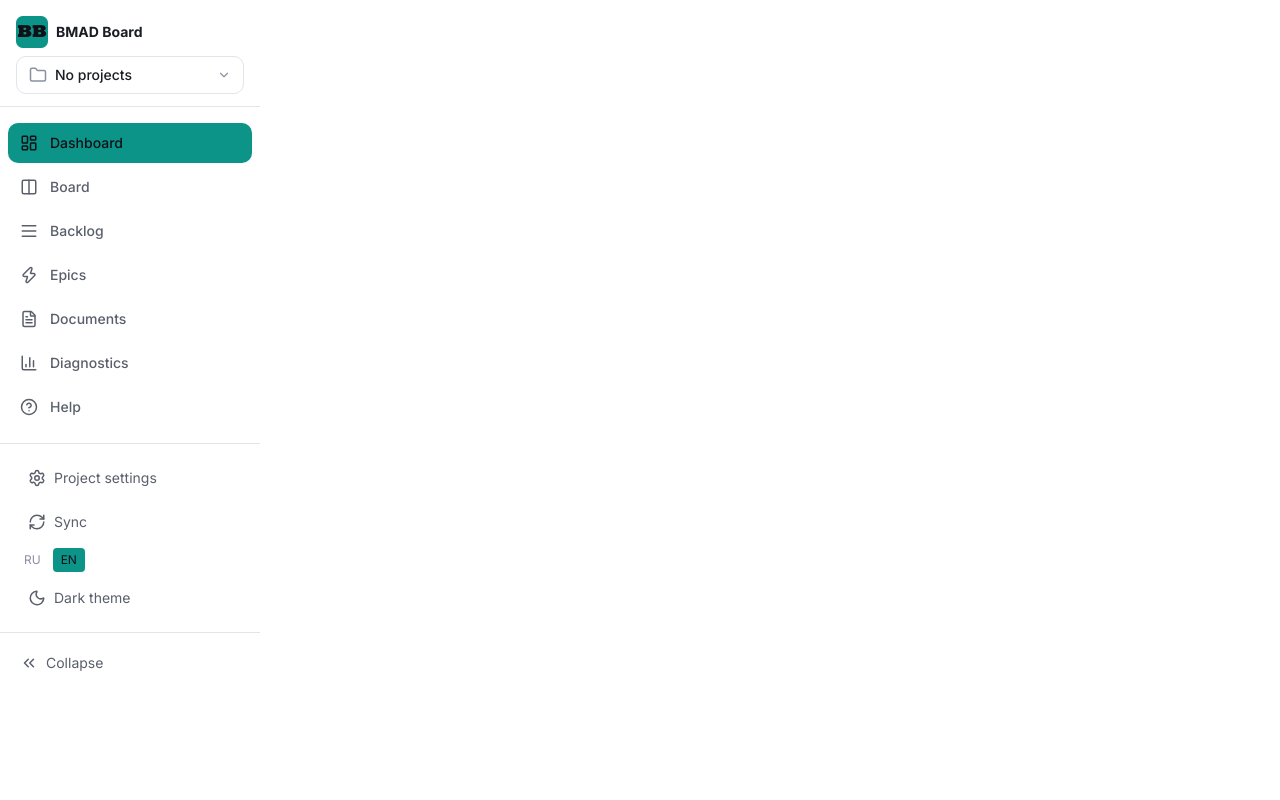
Scenario: Sidebar sync button › shows sync success toast after forceFullSync resolves
The width and height of the screenshot is (1280, 800).
What coordinates should you click on to do the following:
click the button titled "Force re-sync all project files"
I would click on:
 (130, 522)
Its box is [16, 504, 244, 540].
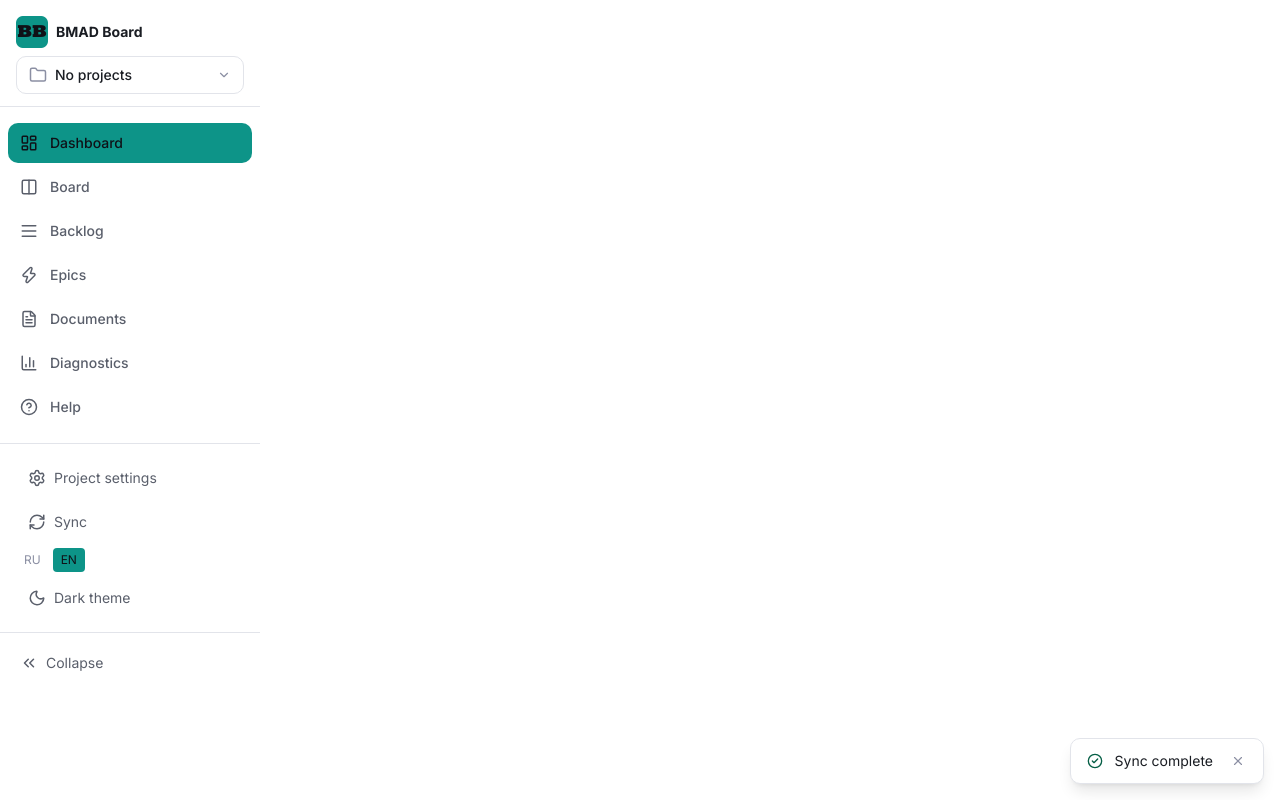
Check: the text "Sync complete" is shown, box [1114, 751, 1213, 771]
